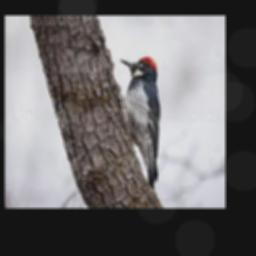Woodpecker: (119, 56, 159, 190)
